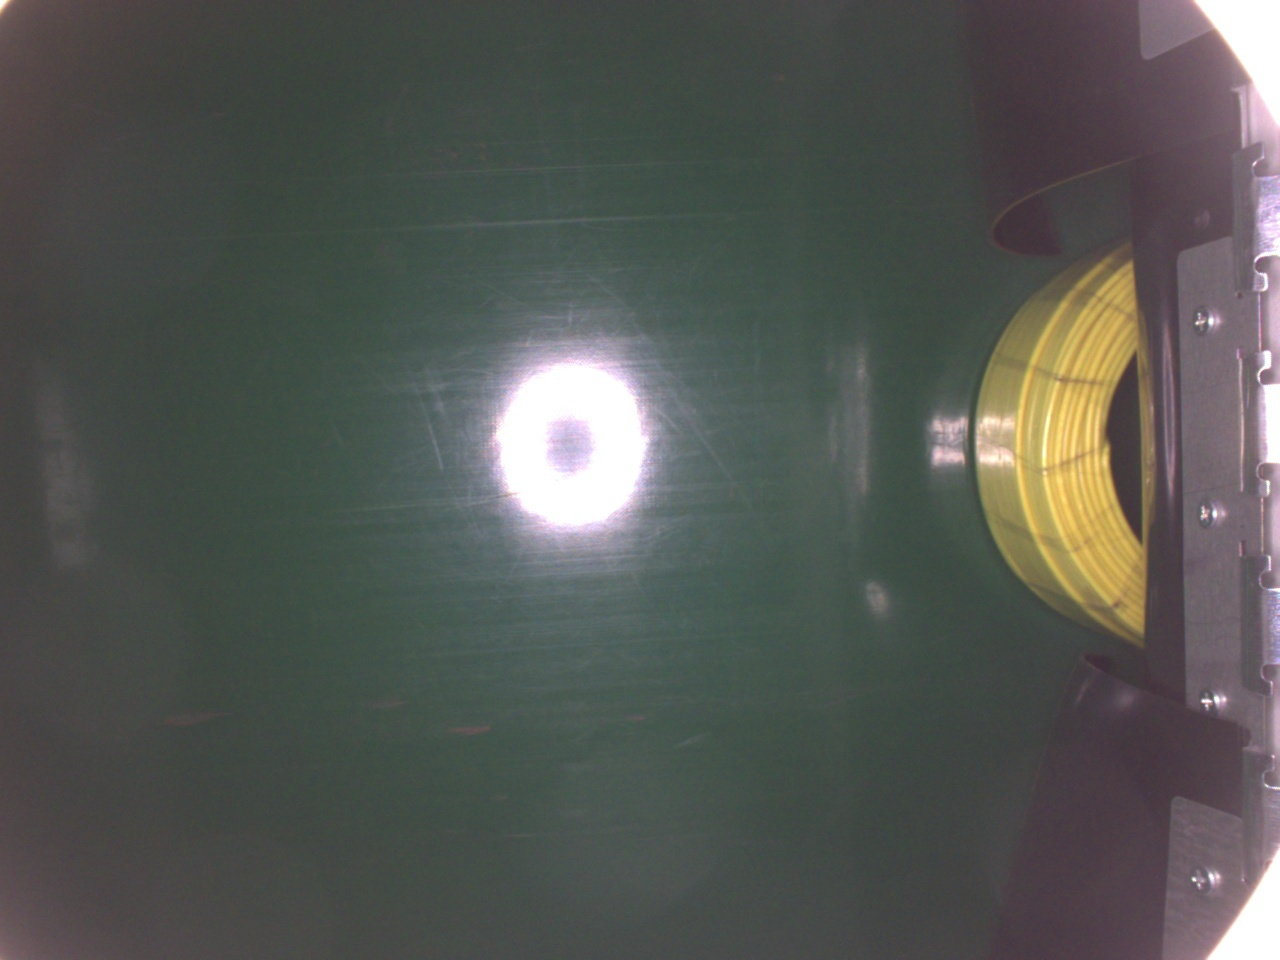yellow: (965, 229, 1143, 646)
